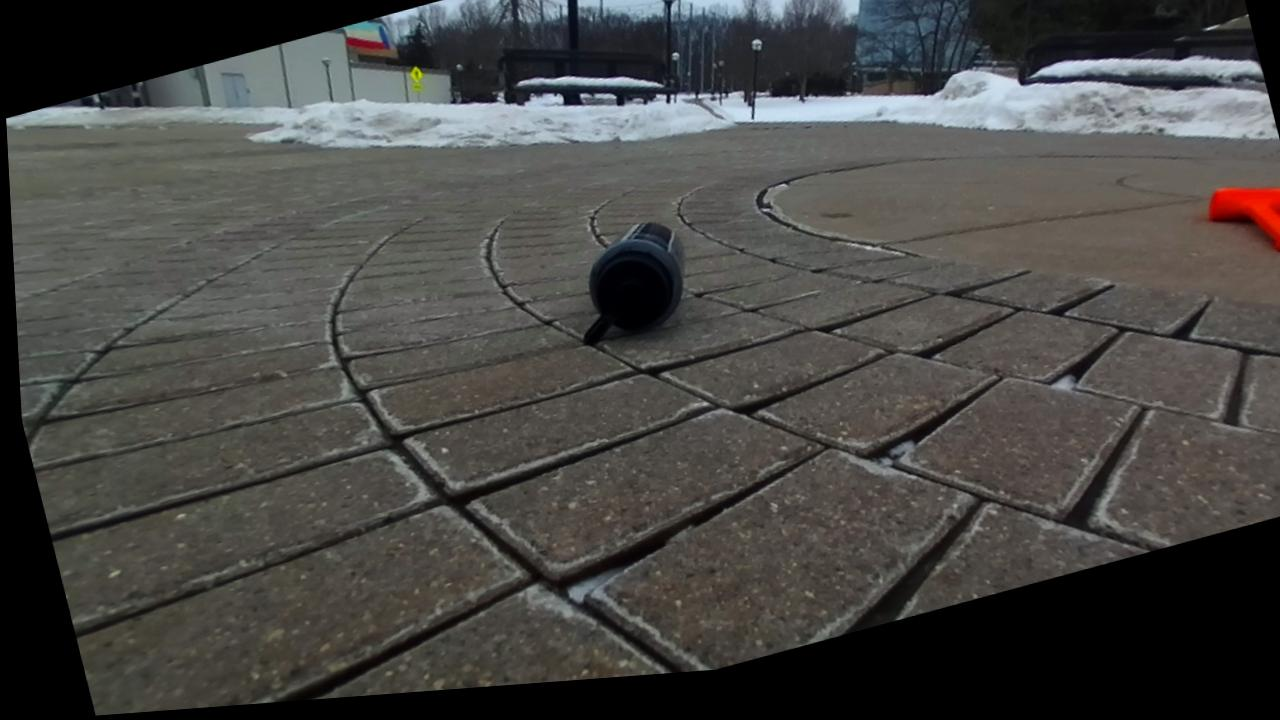bottle: (582, 221, 684, 343)
mallet: (1208, 187, 1280, 249)
